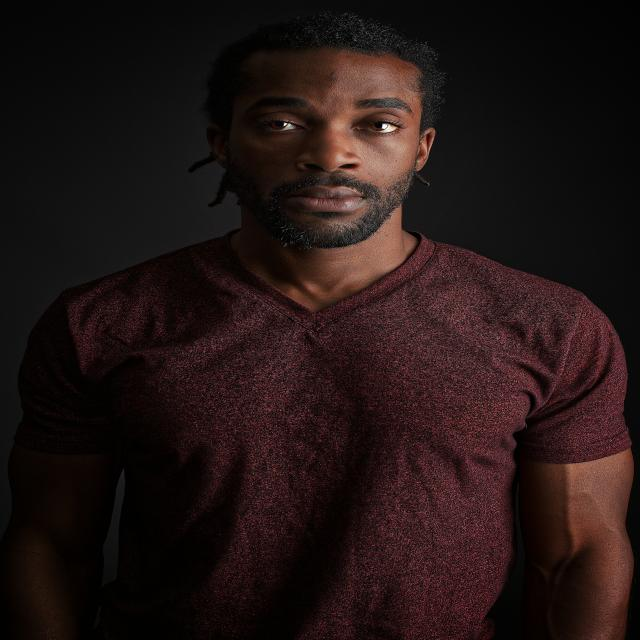human: (49, 29, 640, 640)
